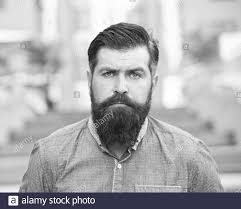white_male: (93, 27, 152, 142)
